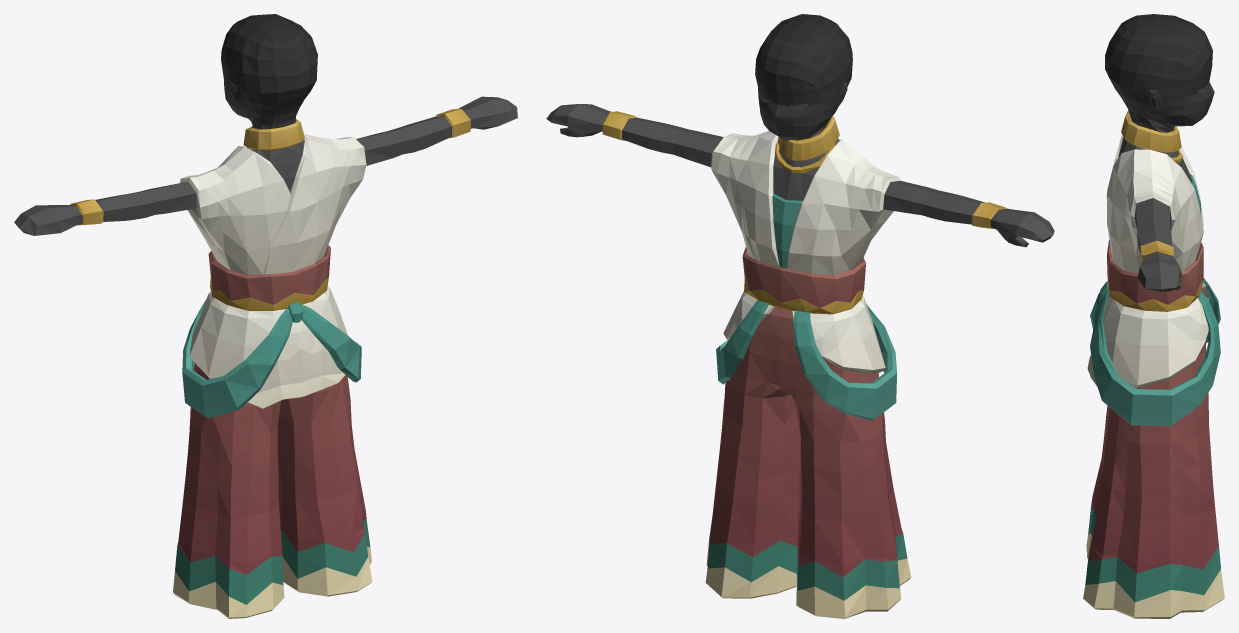
The model's file is CharSkyKid_Body_AP21SilkRaiment.glb.
3 views of the same model, side by side, from view 1: azimuth 30°, elevation 25°; view 2: azimuth 150°, elevation 25°; view 3: azimuth 270°, elevation 25° (orthographic).
Visible parts, largest first — view 1: CharSkyKid_Body_AP21SilkRaiment; view 2: CharSkyKid_Body_AP21SilkRaiment; view 3: CharSkyKid_Body_AP21SilkRaiment.
Boxes of the visible parts, x1=… form: CharSkyKid_Body_AP21SilkRaiment: x1=14, y1=14, x2=517, y2=618; CharSkyKid_Body_AP21SilkRaiment: x1=546, y1=14, x2=1054, y2=618; CharSkyKid_Body_AP21SilkRaiment: x1=1083, y1=14, x2=1224, y2=618.
Bounding box in the file's own units: 13.83 × 14.94 × 3.42.
Materials: 1 (1 with a texture image).
